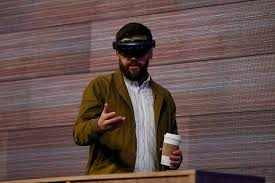hololens: (111, 38, 155, 56)
